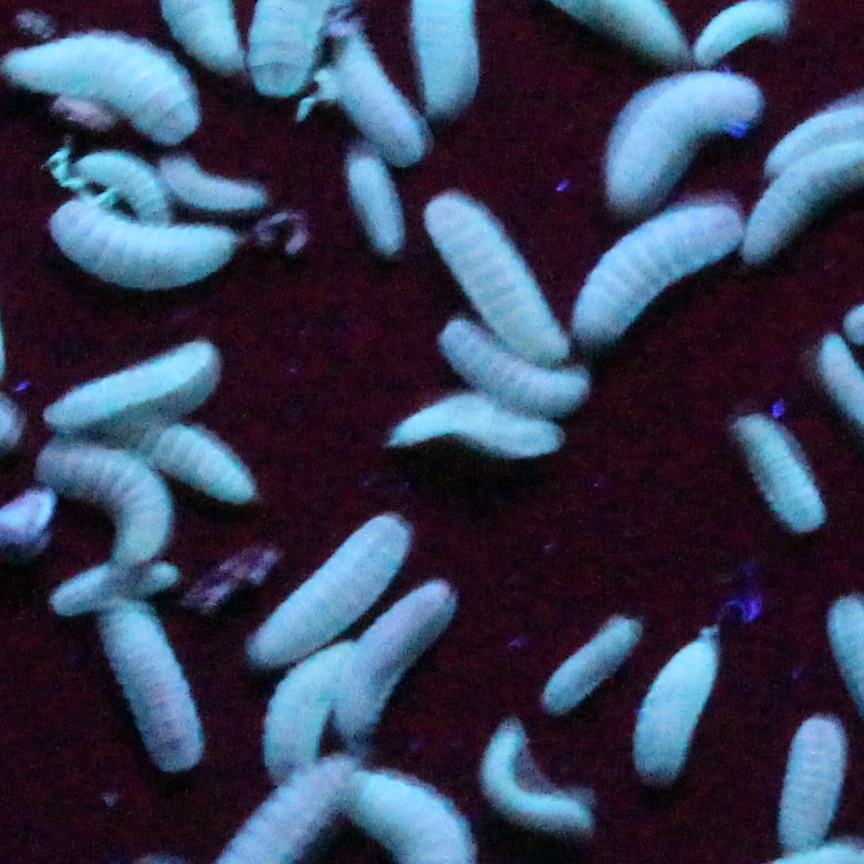larve: (420, 190, 566, 364), (1, 40, 196, 145), (586, 206, 740, 338), (258, 516, 402, 657), (602, 73, 752, 200), (332, 585, 453, 736), (98, 605, 206, 769), (54, 201, 235, 293), (47, 337, 222, 432), (38, 440, 166, 564), (639, 629, 724, 777), (481, 733, 591, 834), (739, 414, 826, 531), (261, 649, 344, 770), (139, 427, 261, 506), (440, 340, 577, 406), (337, 37, 414, 154), (547, 609, 636, 700), (781, 719, 845, 842), (340, 153, 404, 262), (395, 408, 564, 447), (164, 155, 265, 217), (51, 562, 179, 610)
